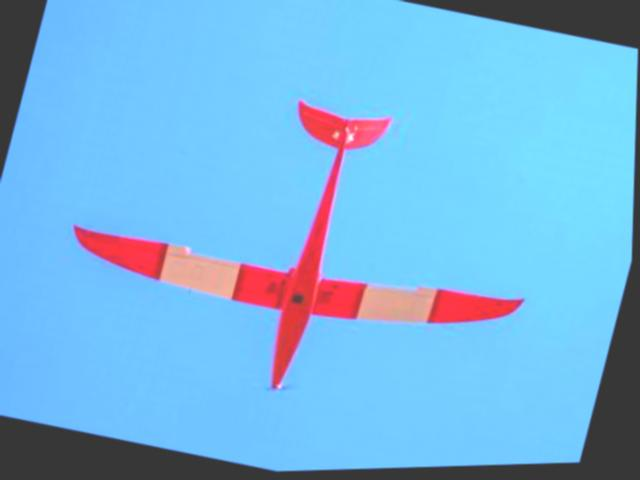uav: (42, 48, 572, 451)
